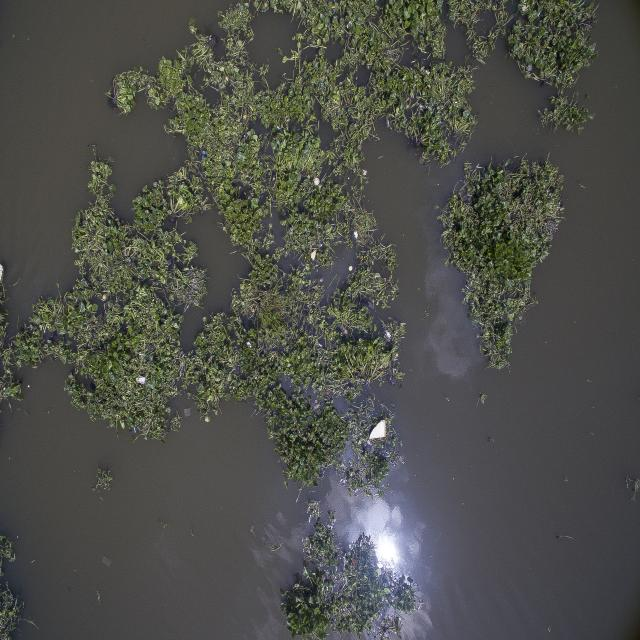plastic: (364, 411, 394, 452), (134, 370, 155, 394), (307, 244, 322, 268), (312, 168, 324, 195), (199, 145, 210, 167), (352, 228, 361, 242)
